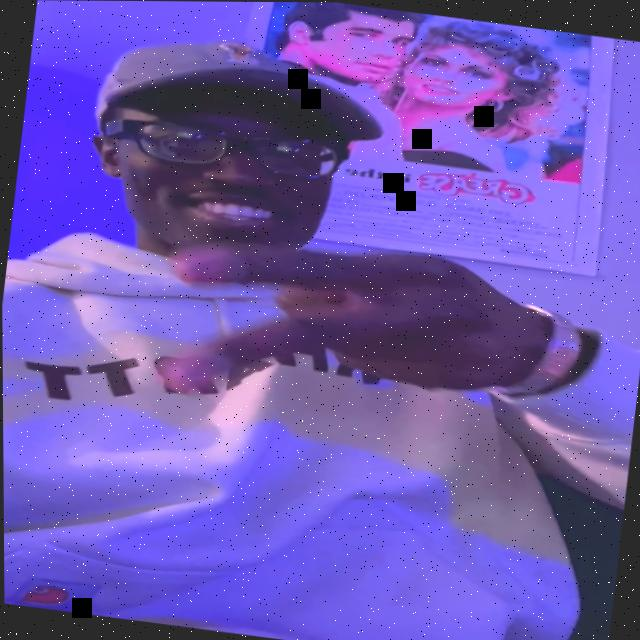Scissors: (151, 218, 557, 438)
